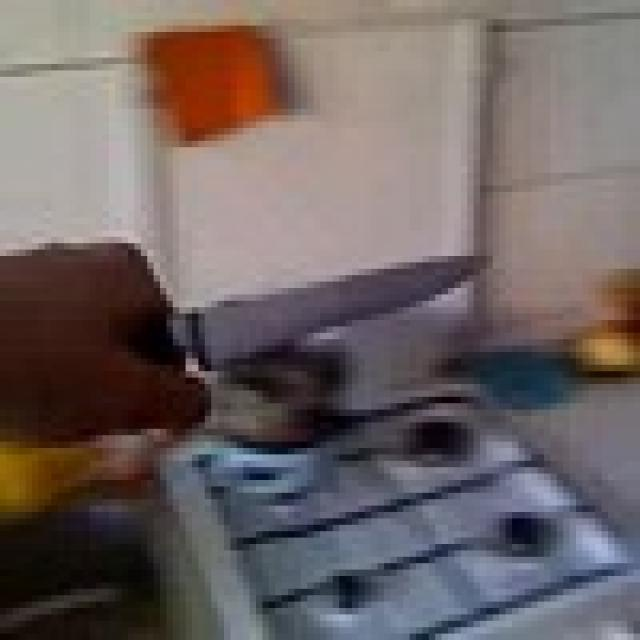Knife: (148, 244, 486, 390)
